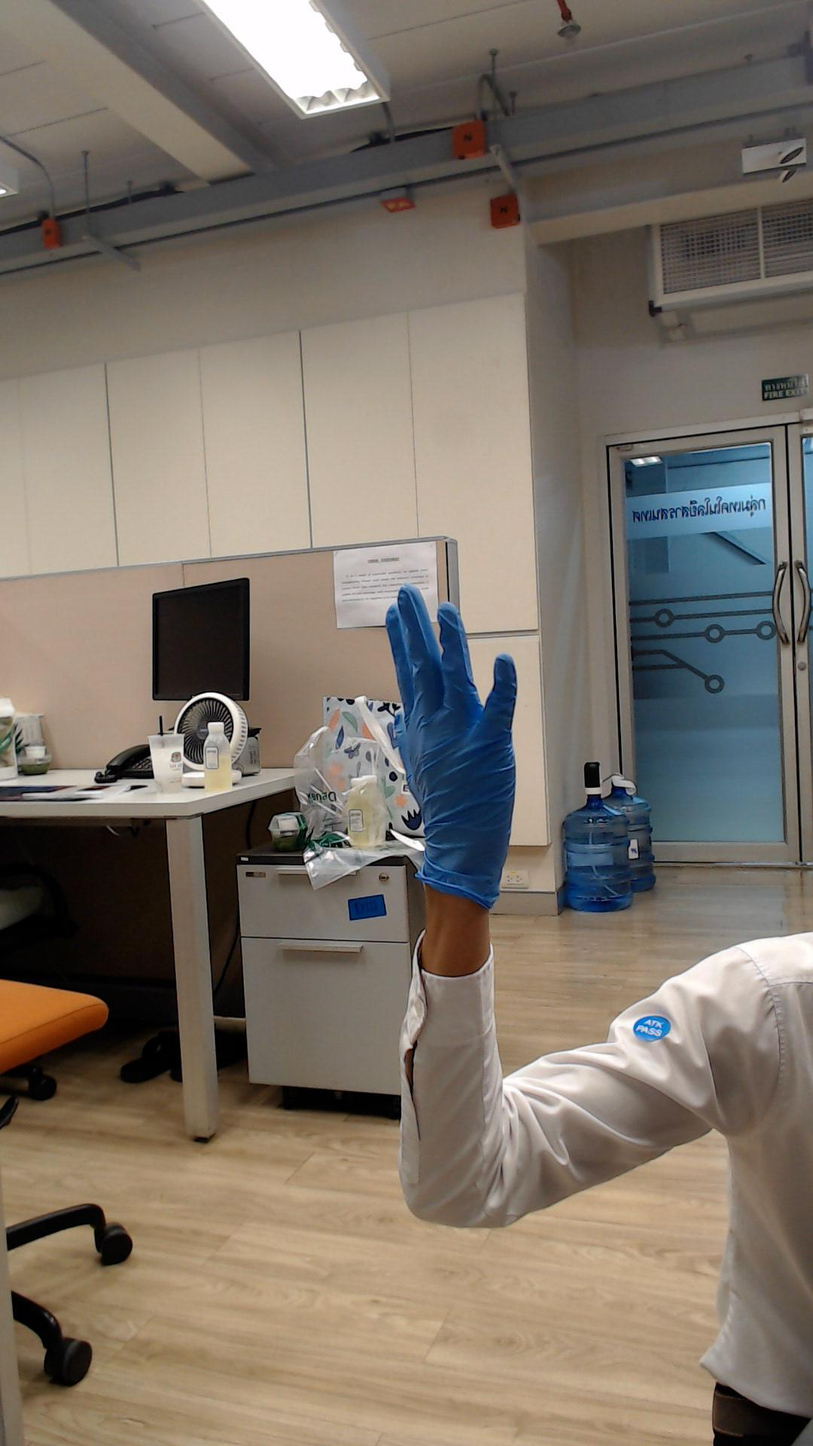gloves: (372, 575, 534, 822)
